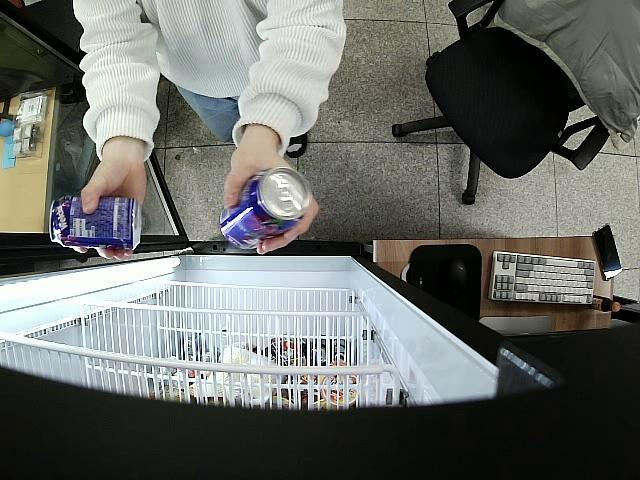14_welchsGrape: (220, 167, 310, 248), (50, 193, 144, 254)
